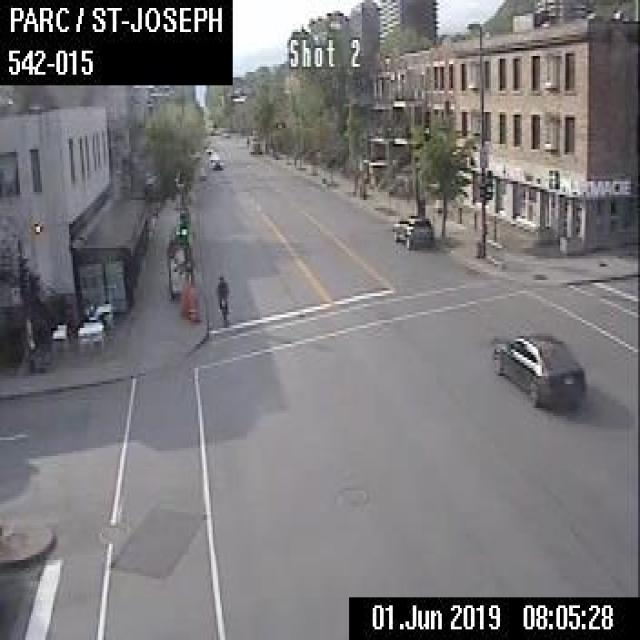construction: (186, 286, 197, 320)
cyclist: (214, 274, 229, 322)
vehicle: (491, 328, 584, 405), (391, 211, 429, 245), (245, 136, 262, 152), (208, 154, 222, 168)
